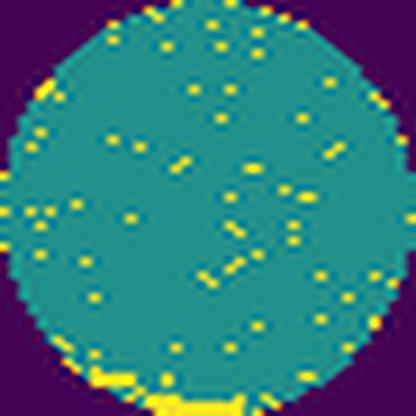Edge-Loc: (52, 335, 286, 415)
